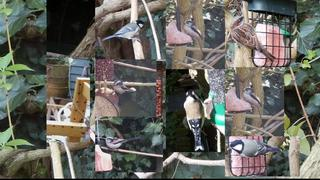goldfinch: (184, 89, 205, 151)
great tit: (227, 139, 280, 158), (101, 20, 146, 42)
long tailed tit: (183, 20, 205, 62), (242, 87, 264, 129), (104, 136, 143, 152), (110, 79, 136, 97)
sparrow: (230, 16, 277, 62)
